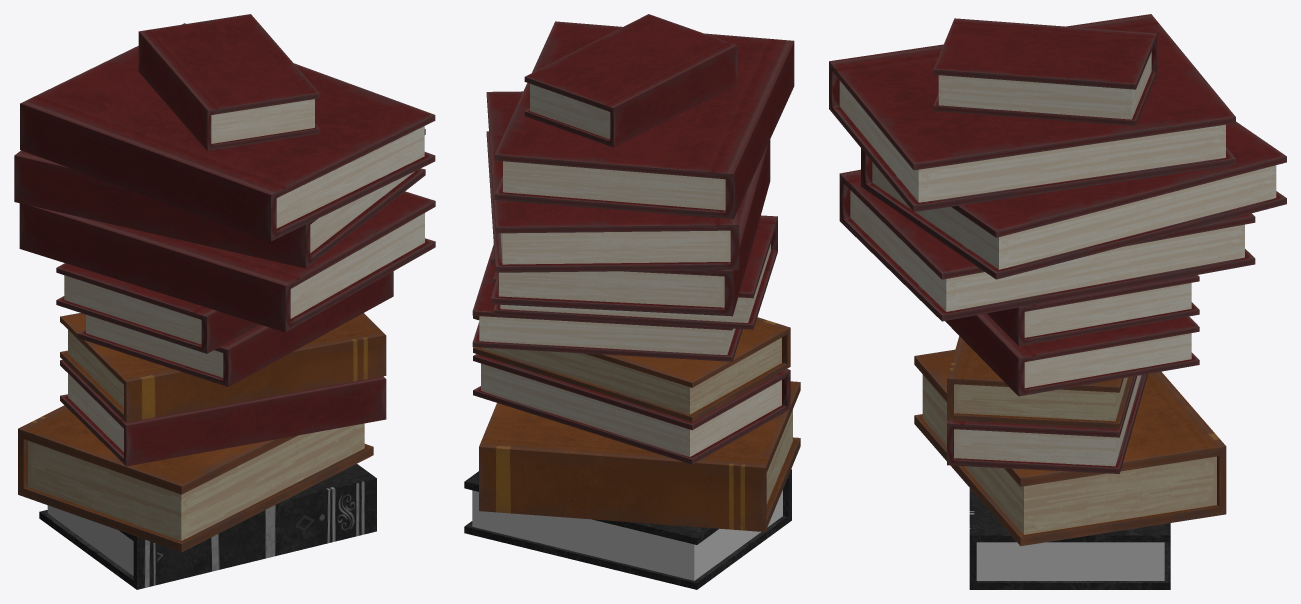
File: BookShelf_FloorStack_02.fbx
3 views of the same model, side by side, from view 1: azimuth 30°, elevation 25°; view 2: azimuth 150°, elevation 25°; view 3: azimuth 270°, elevation 25° (orthographic). The views are drawn at different scales.
Parts seen in each view (by area): view 1: polySurface235; view 2: polySurface235; view 3: polySurface235.
Part boxes in pixels (x1,y1,x2,y2): polySurface235: [14, 14, 435, 589]; polySurface235: [464, 14, 800, 589]; polySurface235: [829, 14, 1286, 589].
Size of the model in its own units: 1.37 by 1.77 by 1.52.
